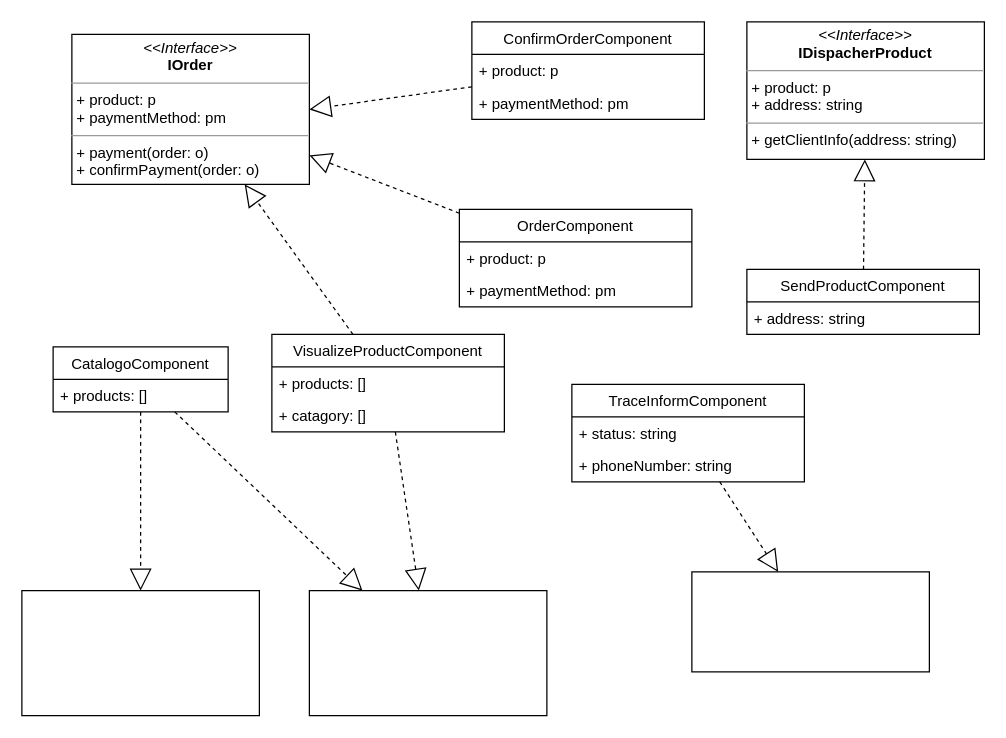
The diagram is 1006 pixels wide and 738 high, and some of its shapes have lost their labels. The shapes that lost their labels are listed below. From the top down, each one's centre as x and y in pixels, then its label:
At [810,621]: "<<Interface>> ITraceInformation + status: string + phoneNumber: string".
At [140,652]: "<<Interface>> ITableProducer + dataSouce: string + getAll(): products[]".
At [427,652]: "<<Interface>> ICatalog + products: [] + selectProduct(id: number)".
